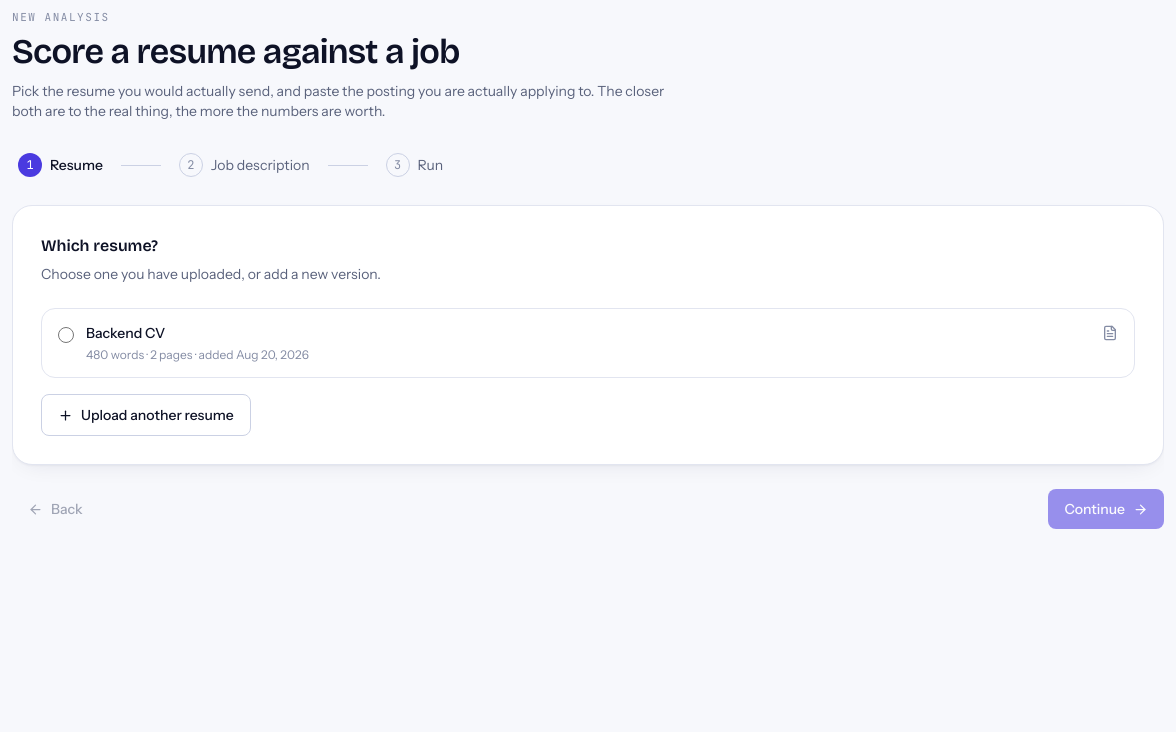
Test: NewAnalysis › will not continue until a resume is chosen
expect the text "Backend CV" is shown: met, box [86, 324, 165, 342]
expect the button "Continue" is disabled: met, box [1048, 489, 1164, 529]
What coordinates should you click on to do the following:
click the radio button
I would click on:
 (66, 335)
Its box is [58, 327, 74, 343].
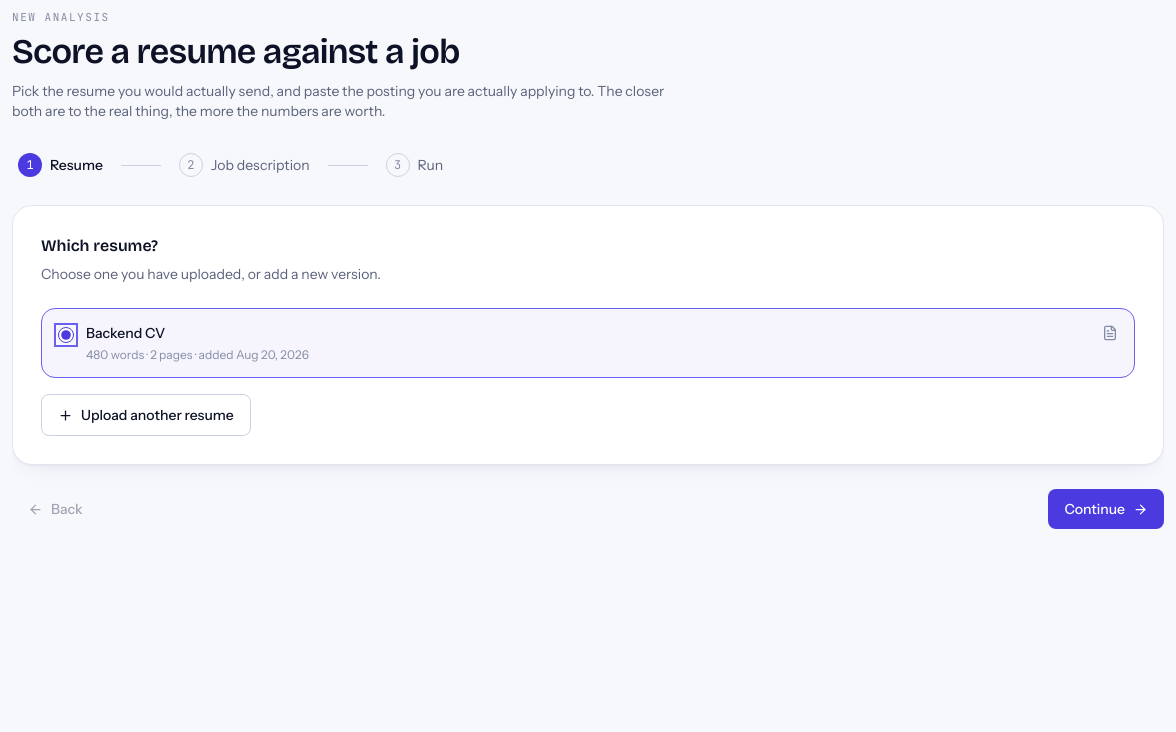
expect the button "Continue" is enabled: met, box [1048, 489, 1164, 529]
